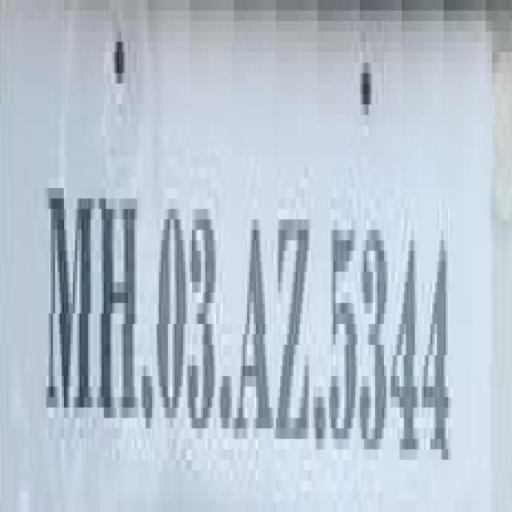number plate: (0, 0, 490, 502)
